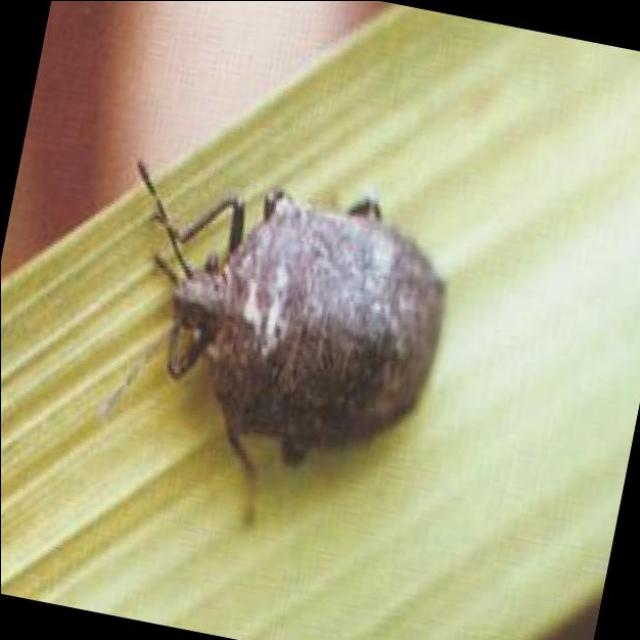ricebug: (153, 188, 442, 519)
